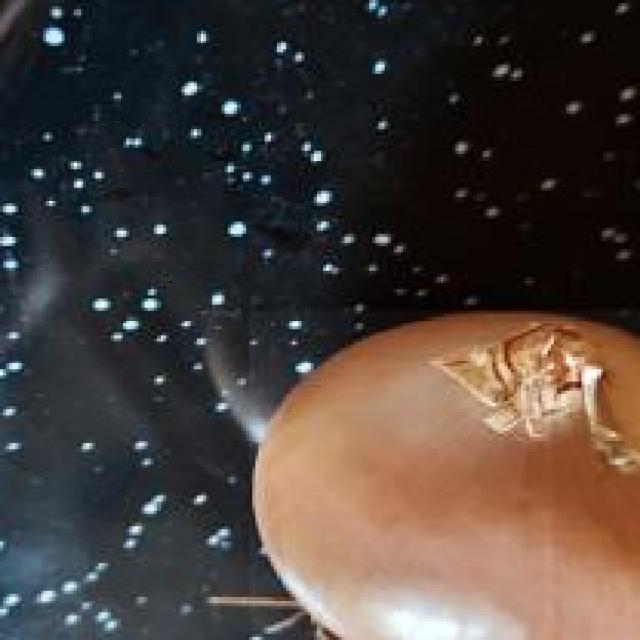onion: (246, 307, 640, 640)
